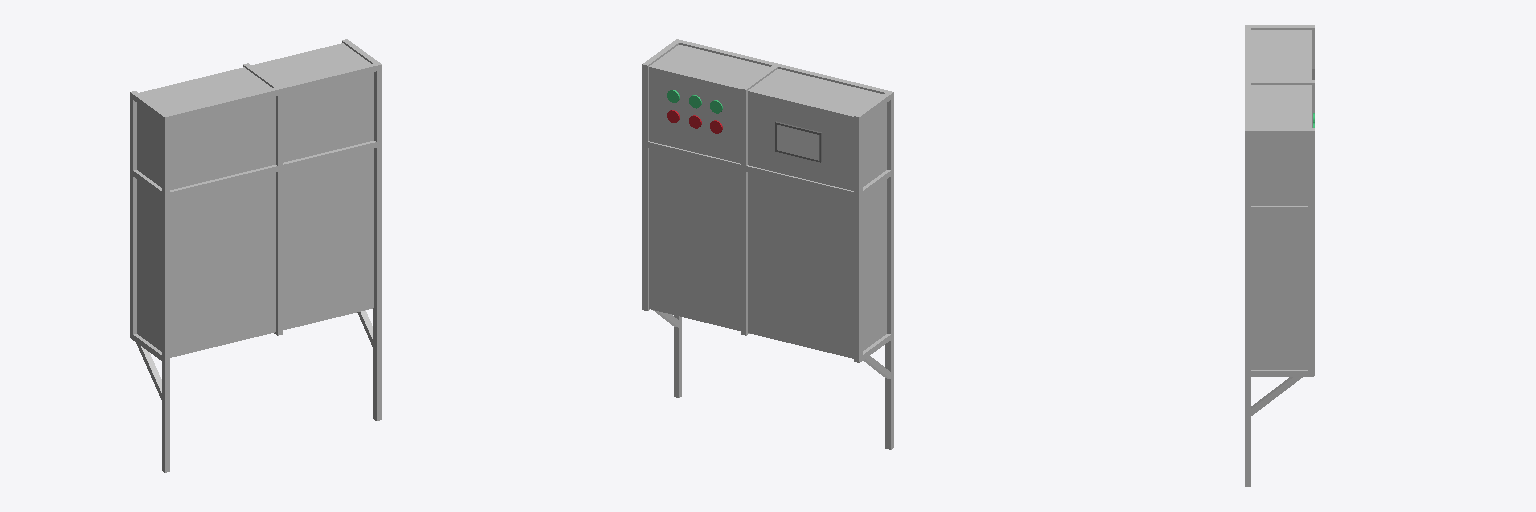
3 views of the same model, side by side, from view 1: azimuth 30°, elevation 25°; view 2: azimuth 150°, elevation 25°; view 3: azimuth 270°, elevation 25° (orthographic).
Parts seen in each view (by area): view 1: diangui; view 2: diangui; view 3: diangui.
Boxes of the visible parts, box(x1,y1,x2,y2) form: diangui: box(130, 39, 381, 472); diangui: box(642, 39, 893, 449); diangui: box(1245, 25, 1314, 486).
Size of the model in its own units: 596 by 933 by 166.
Materials: 2 (1 with a texture image).